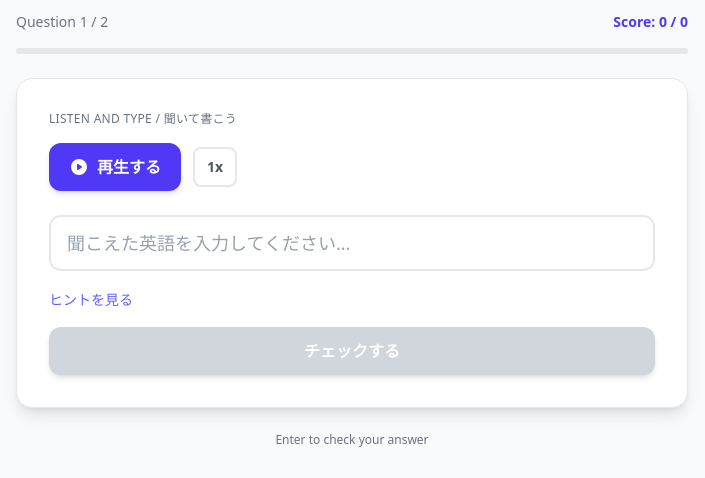
Test: Dictation › reveals a hint when the hint button is clicked
Click the button "ヒントを見る": (91, 300) x1=49 y1=290 x2=133 y2=310
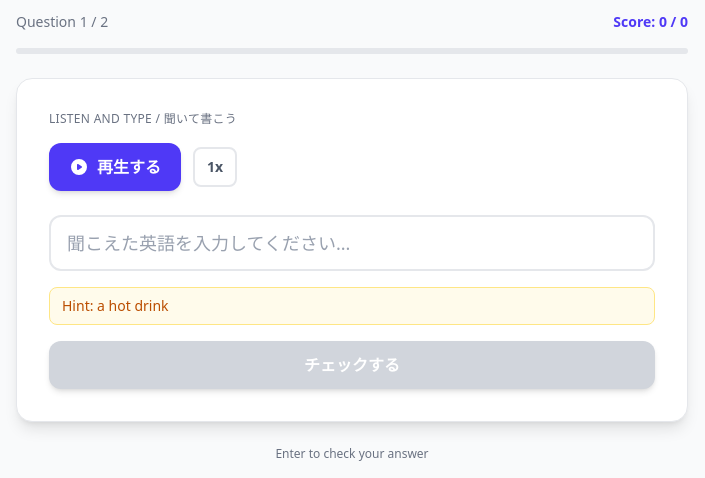
Check: the text "a hot drink" is shown, box x1=97 y1=296 x2=169 y2=315
